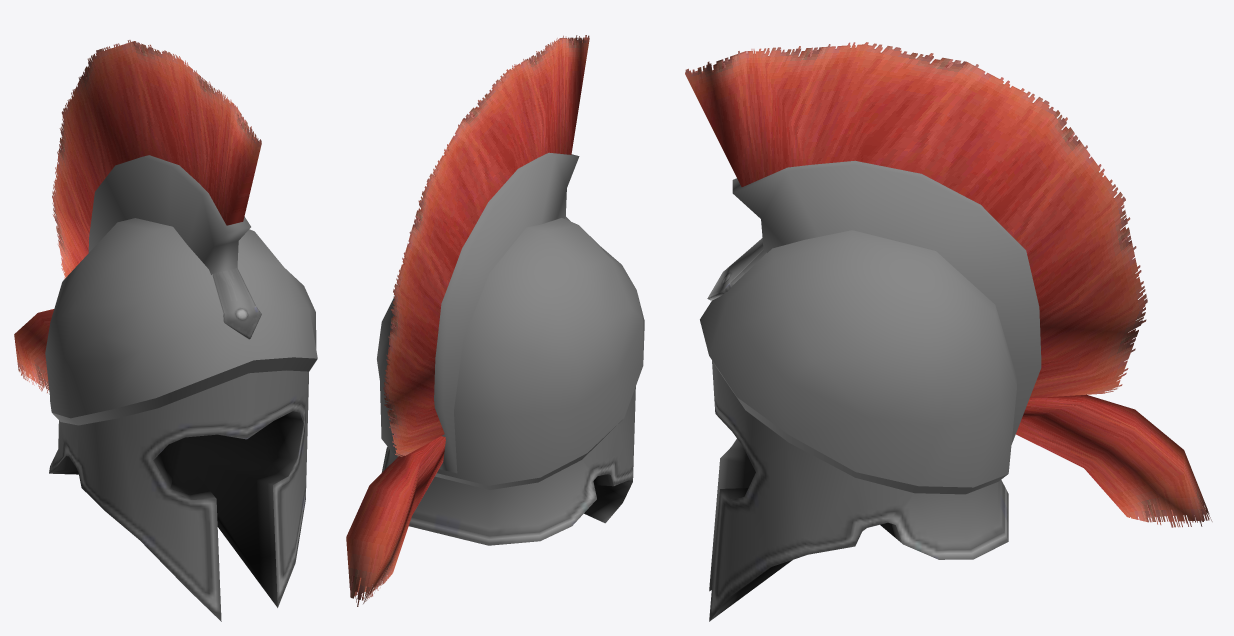
File: hat_kabuto_model.dae
The picture shows the model from 3 angles, left to right: view 1: azimuth 30°, elevation 25°; view 2: azimuth 150°, elevation 25°; view 3: azimuth 270°, elevation 25°; orthographic projection. The views are drawn at different scales.
Visible parts, largest first — view 1: _0_0_node, _1_0_node; view 2: _0_0_node, _1_0_node; view 3: _0_0_node, _1_0_node.
Part boxes in pixels (box(x1,y1,x2,y2)): _0_0_node: box(45, 155, 317, 621); _1_0_node: box(14, 40, 261, 392); _0_0_node: box(377, 152, 644, 545); _1_0_node: box(346, 35, 589, 606); _0_0_node: box(700, 160, 1041, 621); _1_0_node: box(685, 42, 1212, 527).
Bounding box in the file's own units: 64.86 × 146 × 122.
Materials: 2 (2 with a texture image).
